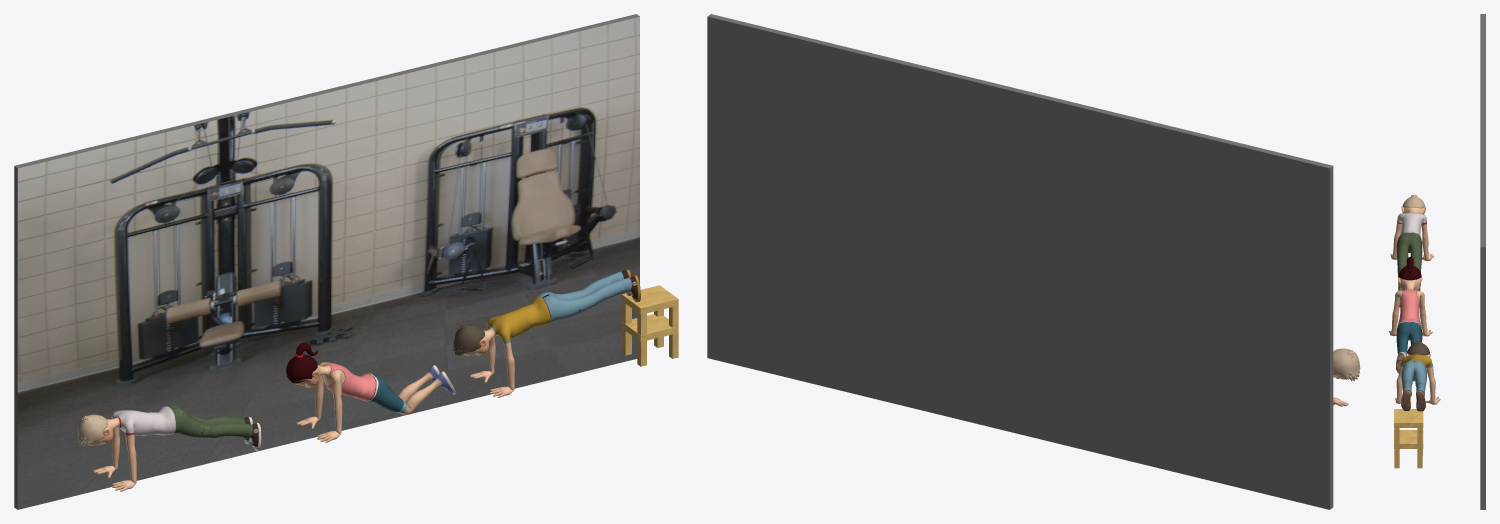
File: pushup.dae
The picture shows the model from 3 angles, left to right: view 1: azimuth 30°, elevation 25°; view 2: azimuth 150°, elevation 25°; view 3: azimuth 270°, elevation 25°; orthographic projection. The views are drawn at different scales.
Parts seen in each view (by area): view 1: background4, body3, polySurface3, polySurface4, polySurface1 (×2), pCube4, pCube10, hair1; view 2: background4, polySurface1; view 3: background4, polySurface4, polySurface3, body3, polySurface1 (×2), pCube4, pCube10, pCube8, pCube7, hair1.
Part boxes in pixels (x1,y1,x2,y2): background4: (14, 14, 639, 509); body3: (463, 269, 640, 397); polySurface3: (88, 404, 261, 491); polySurface4: (294, 362, 456, 442); polySurface1 (×2): (77, 342, 318, 446); pCube4: (621, 285, 678, 314); pCube10: (621, 314, 678, 341); hair1: (453, 324, 484, 355); background4: (707, 14, 1333, 509); polySurface1: (1333, 348, 1360, 381); background4: (1480, 14, 1485, 509); polySurface4: (1389, 277, 1432, 373); polySurface3: (1390, 206, 1434, 306); body3: (1395, 353, 1440, 411); polySurface1 (×2): (1398, 195, 1425, 280); pCube4: (1394, 409, 1423, 427); pCube10: (1394, 430, 1423, 448); pCube8: (1417, 423, 1422, 468); pCube7: (1394, 423, 1399, 468); hair1: (1407, 340, 1429, 355).
Size of the model in its own units: 2.05 by 1.08 by 0.3597.
